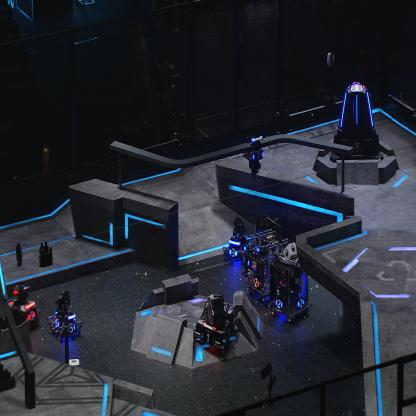car: (243, 215, 289, 300), (268, 248, 312, 321), (195, 288, 235, 356), (48, 289, 82, 342), (6, 282, 40, 332), (223, 216, 250, 260)
